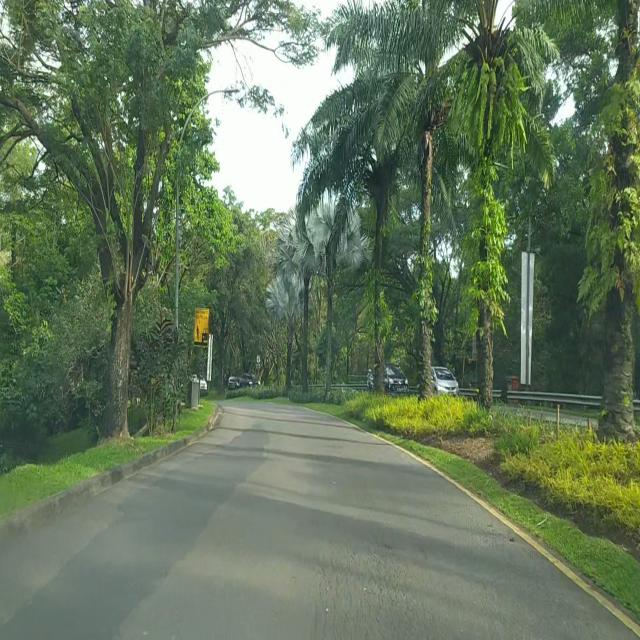Drain Hole: (303, 551, 431, 640)
